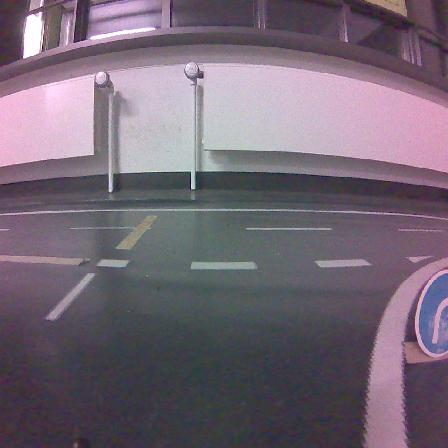RIGHT_TURN: (415, 270, 448, 358)
